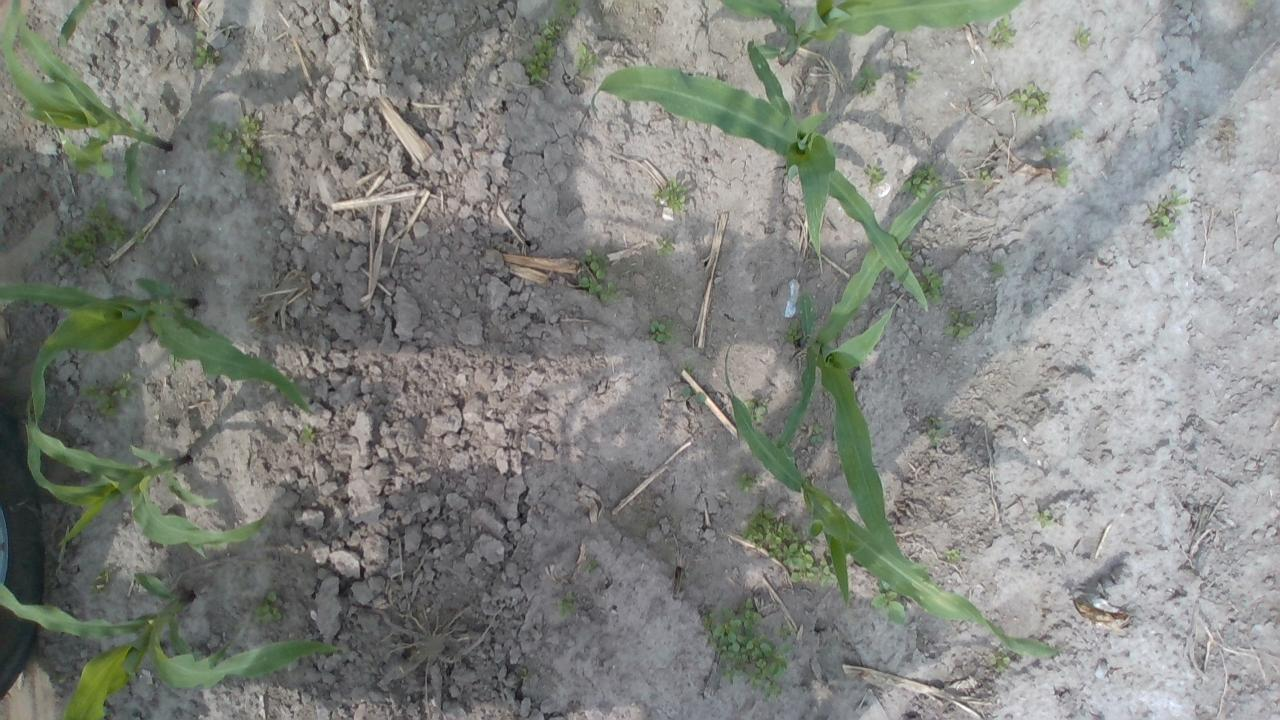Maize: (716, 340, 1068, 657), (594, 38, 932, 314), (771, 182, 958, 572), (0, 570, 346, 720), (0, 278, 316, 434), (12, 402, 274, 559), (0, 0, 169, 210), (719, 0, 1024, 60), (55, 0, 174, 49)
Weeds: (702, 596, 794, 697), (48, 199, 132, 269), (742, 503, 816, 582), (80, 370, 140, 418), (574, 247, 618, 306), (232, 116, 270, 183), (1146, 188, 1190, 238), (869, 576, 908, 624), (899, 160, 944, 200), (520, 38, 556, 84), (1010, 81, 1049, 118), (653, 176, 686, 212), (204, 117, 234, 156), (188, 30, 218, 68), (571, 40, 601, 78), (916, 266, 944, 306), (852, 62, 883, 98), (942, 308, 979, 338), (252, 589, 283, 622), (989, 13, 1016, 50), (816, 550, 840, 588), (924, 415, 950, 448), (731, 468, 760, 494), (744, 394, 768, 424), (538, 18, 568, 42), (649, 318, 675, 344), (91, 566, 114, 594), (987, 646, 1011, 672), (1072, 24, 1093, 50), (652, 232, 674, 256), (783, 320, 804, 344), (556, 591, 576, 616), (1041, 144, 1068, 162), (554, 0, 584, 16), (1034, 507, 1054, 529), (864, 163, 886, 183), (1054, 164, 1072, 188), (681, 388, 707, 404), (904, 66, 924, 86), (898, 239, 914, 262), (810, 422, 824, 444), (297, 424, 314, 442), (168, 352, 184, 370), (974, 168, 992, 184), (989, 260, 1004, 278), (944, 548, 962, 563), (1068, 124, 1082, 140), (133, 228, 146, 244), (1240, 0, 1258, 11), (584, 561, 599, 572), (680, 362, 694, 372), (50, 670, 61, 682), (520, 668, 529, 680)
